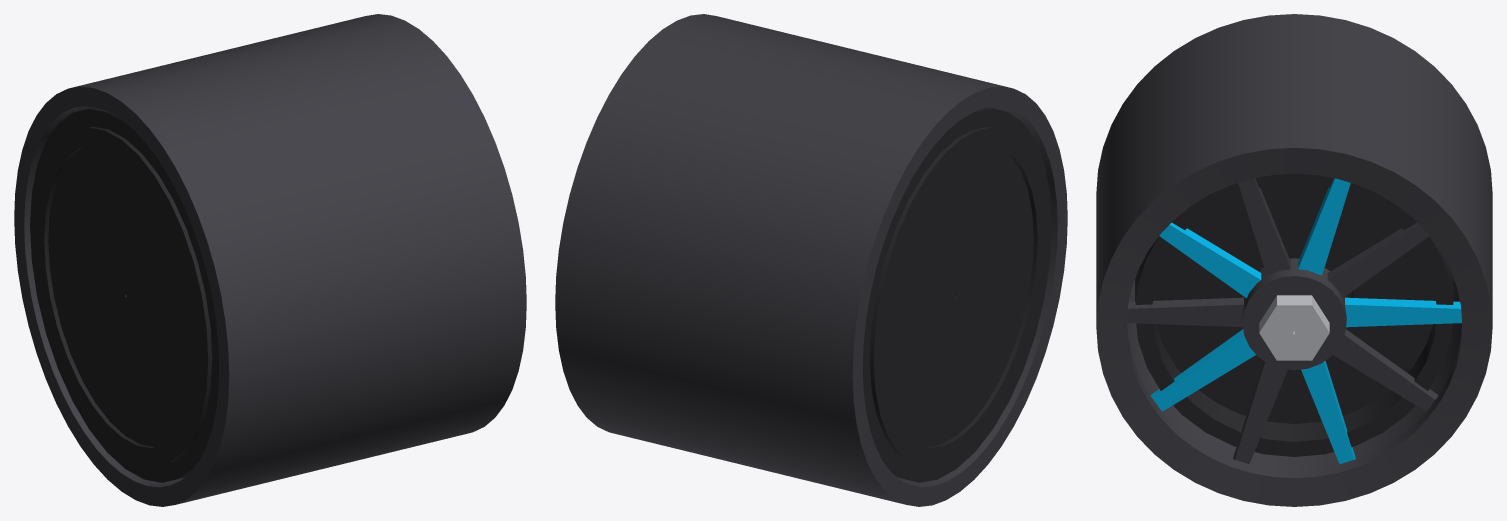
The model's file is spoked_rear.glb.
3 views of the same model, side by side, from view 1: azimuth 30°, elevation 25°; view 2: azimuth 150°, elevation 25°; view 3: azimuth 270°, elevation 25° (orthographic). The views are drawn at different scales.
Parts seen in each view (by area): view 1: Rim_spoked_rear; view 2: Rim_spoked_rear; view 3: Rim_spoked_rear.
Part boxes in pixels (bbox=[...]): Rim_spoked_rear: bbox=[14, 14, 526, 506]; Rim_spoked_rear: bbox=[555, 14, 1067, 506]; Rim_spoked_rear: bbox=[1096, 14, 1492, 506].
Bounding box in the file's own units: 0.393 × 0.472 × 0.472.
